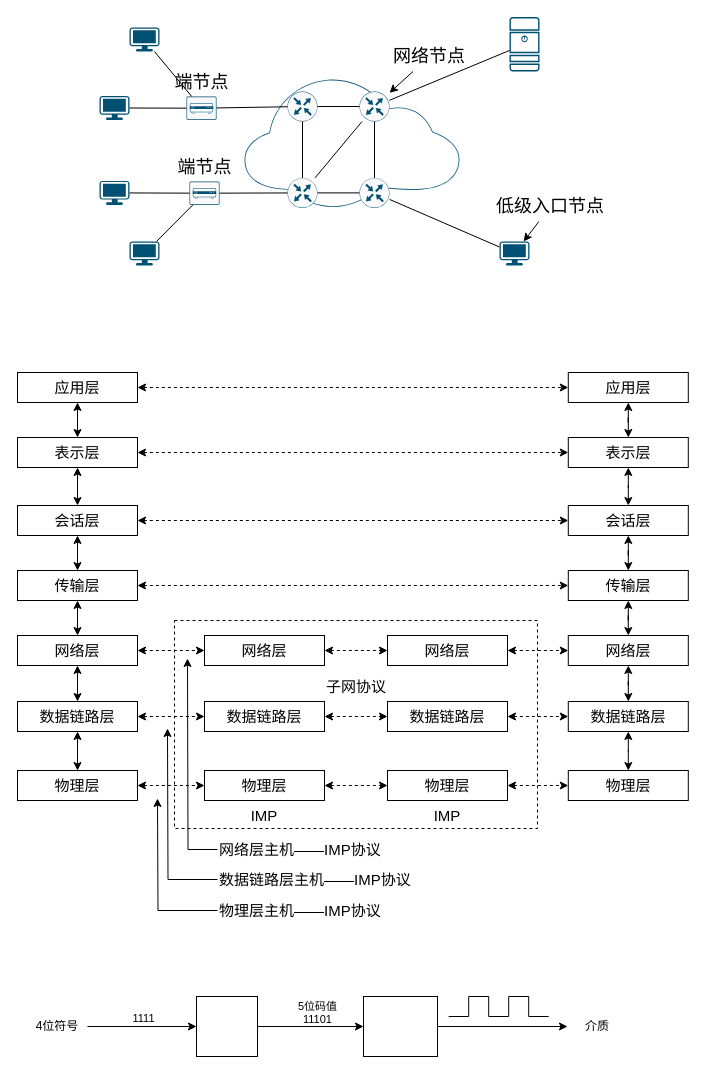
Some shapes in this 706 by 1074 pixel diagram are drawn without their labels. The shapes that lost their labels are listed below. From the top down, each one's box as (x1, y1, x2, y2) in pixels, then its label:
(244, 78, 459, 206): APPN网络
(196, 996, 258, 1056): 4B/5B 译码器
(362, 996, 438, 1056): NRZ/NRZ-I 译码器
